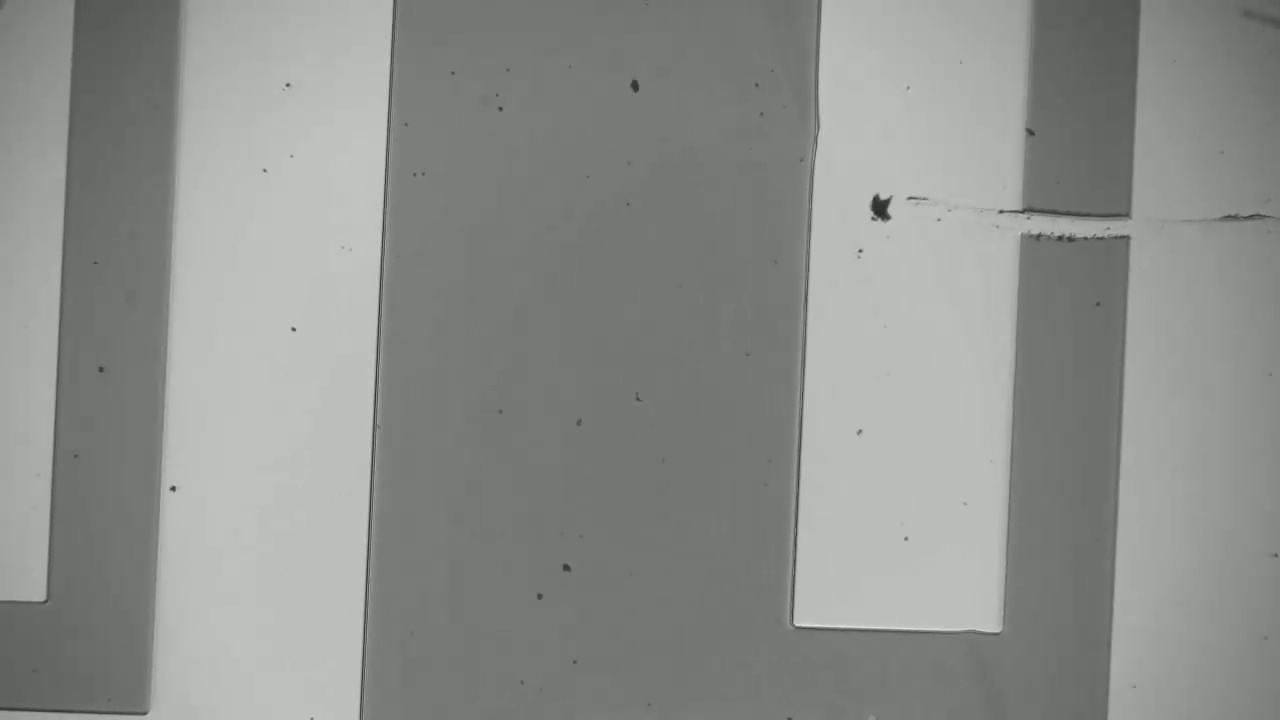Short_circuit: (996, 187, 1170, 262)
